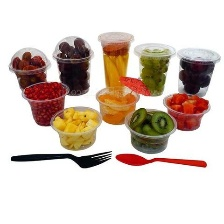glass: (117, 104, 179, 156), (50, 33, 96, 98), (132, 38, 179, 98), (173, 44, 222, 100), (48, 103, 105, 151), (4, 43, 54, 97), (97, 26, 136, 95), (22, 78, 73, 127), (160, 90, 213, 136), (92, 83, 146, 126)
